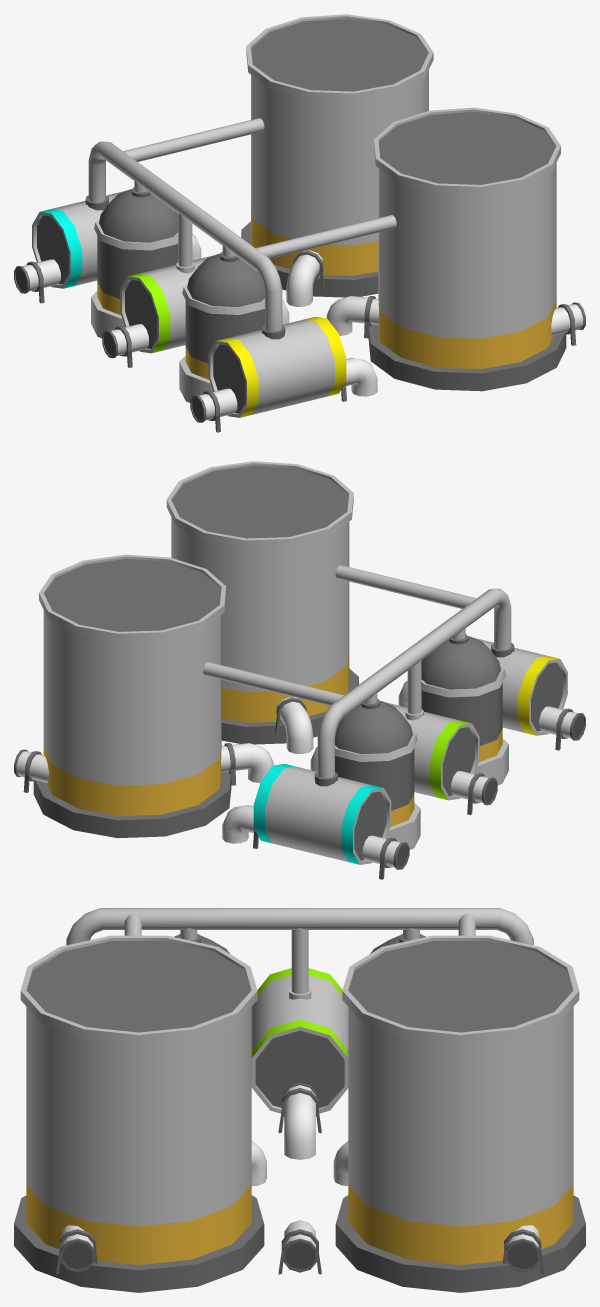
The model's file is Refinery.fbx.
The picture shows the model from 3 angles, top to bottom: view 1: azimuth 30°, elevation 25°; view 2: azimuth 150°, elevation 25°; view 3: azimuth 270°, elevation 25°; orthographic projection. The views are drawn at different scales.
Visible parts, largest first — view 1: Refinery; view 2: Refinery; view 3: Refinery.
Part boxes in pixels (x1,y1,x2,y2): Refinery: (14,14,585,432); Refinery: (14,461,585,879); Refinery: (14,908,585,1292).
Bounding box in the file's own units: 500 × 256 × 514.
